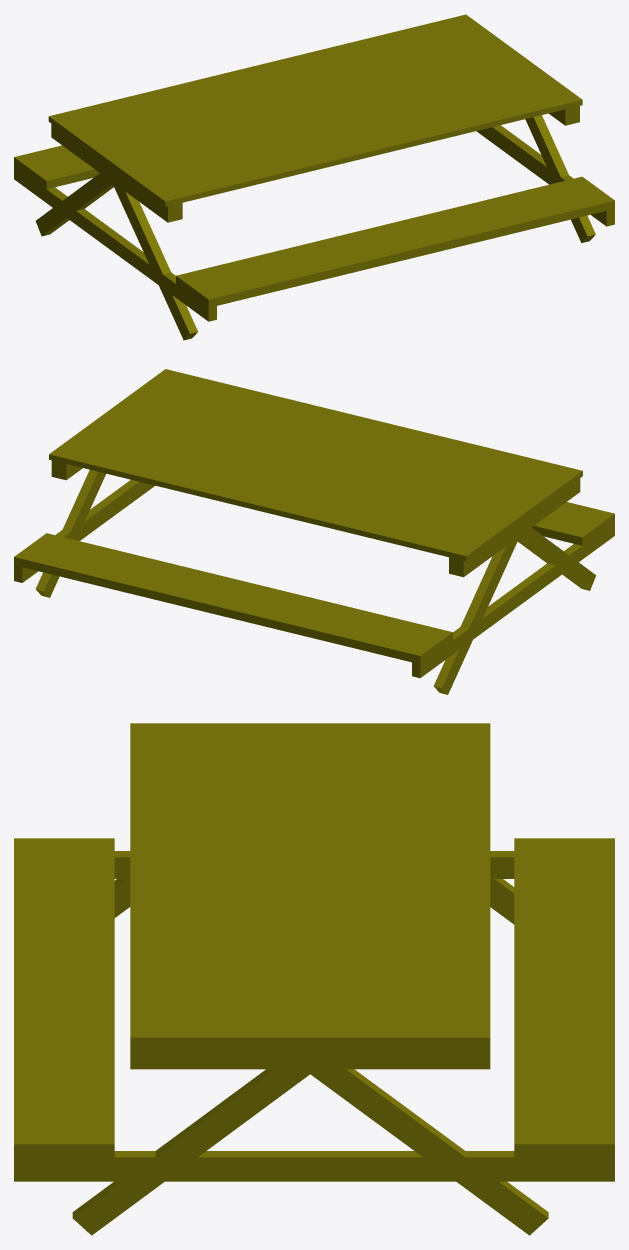
The model's file is Picnic Table.fbx.
3 renders of one model, top to bottom at view 1: azimuth 30°, elevation 25°; view 2: azimuth 150°, elevation 25°; view 3: azimuth 270°, elevation 25°, orthographic. The views are drawn at different scales.
Parts seen in each view (by area): view 1: Picnic_table1; view 2: Picnic_table1; view 3: Picnic_table1.
Part boxes in pixels (box(x1,y1,x2,y2)): Picnic_table1: box(14, 14, 614, 340); Picnic_table1: box(14, 369, 614, 694); Picnic_table1: box(14, 723, 614, 1235).
Size of the model in its own units: 47.64 by 14.28 by 38.49.
